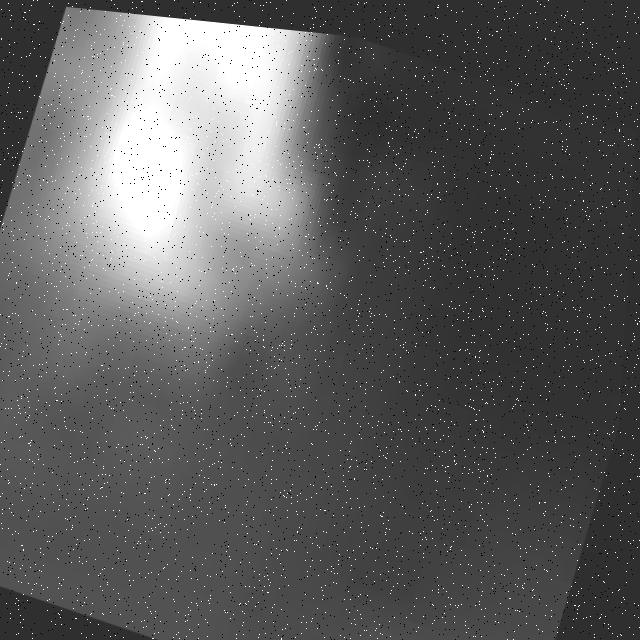person: (33, 5, 364, 408)
